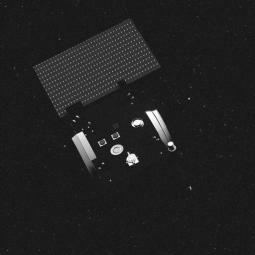proba_3_csc: (28, 12, 186, 194)
